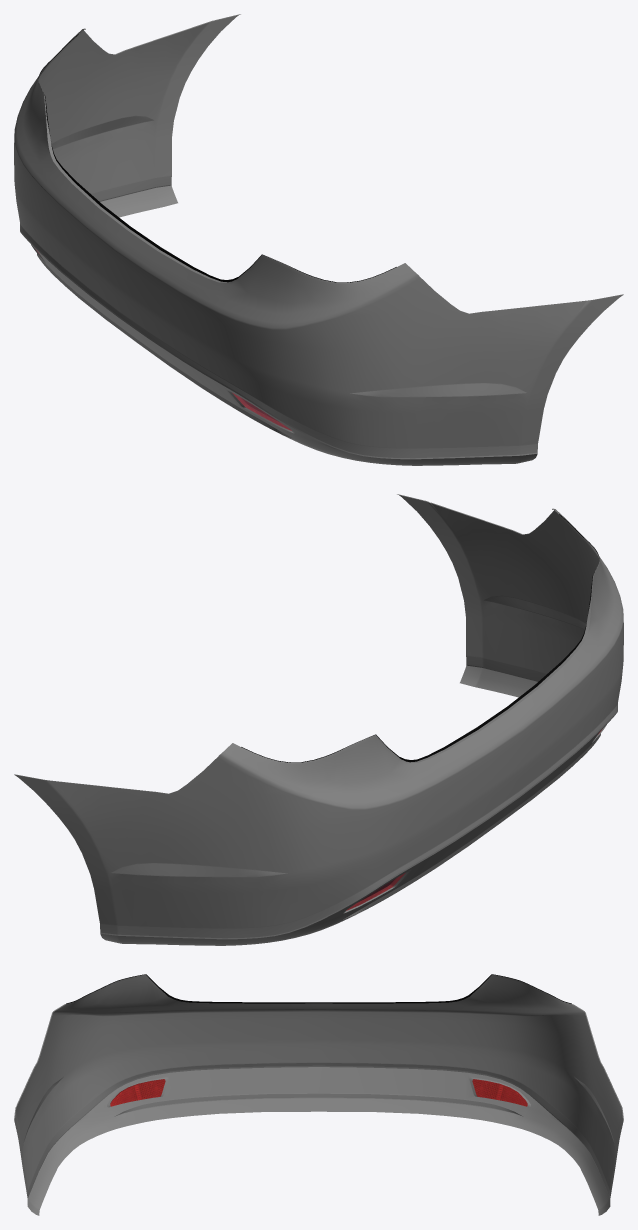
The picture shows the model from 3 angles, top to bottom: view 1: azimuth 30°, elevation 25°; view 2: azimuth 150°, elevation 25°; view 3: azimuth 270°, elevation 25°; orthographic projection. The views are drawn at different scales.
Parts seen in each view (by area): view 1: E317_561G_C_E317_561G_C_4_DaS, E317_561G_C_E317_561G_C_4_DaS_E, E317_561G_C_E317_561G_C_6_D; view 2: E317_561G_C_E317_561G_C_4_DaS, E317_561G_C_E317_561G_C_4_DaS_E, E317_561G_C_E317_561G_C_6_D; view 3: E317_561G_C_E317_561G_C_4_DaS, E317_561G_C_E317_561G_C_4_DaS_E, E317_561G_C_E317_561G_C_6_D, E317_561G_C_1_N_E317_561G_C, E317_561G_C_E317_561G_C_2_N.
Boxes of the visible parts, bbox=[...] form: E317_561G_C_E317_561G_C_4_DaS: bbox=[14, 15, 623, 465]; E317_561G_C_E317_561G_C_4_DaS_E: bbox=[20, 14, 623, 459]; E317_561G_C_E317_561G_C_6_D: bbox=[38, 34, 396, 282]; E317_561G_C_E317_561G_C_4_DaS: bbox=[14, 495, 623, 945]; E317_561G_C_E317_561G_C_4_DaS_E: bbox=[14, 494, 617, 939]; E317_561G_C_E317_561G_C_6_D: bbox=[241, 514, 599, 762]; E317_561G_C_E317_561G_C_4_DaS: bbox=[14, 974, 623, 1215]; E317_561G_C_E317_561G_C_4_DaS_E: bbox=[14, 1004, 623, 1193]; E317_561G_C_E317_561G_C_6_D: bbox=[66, 974, 571, 1003]; E317_561G_C_1_N_E317_561G_C: bbox=[110, 1079, 165, 1106]; E317_561G_C_E317_561G_C_2_N: bbox=[472, 1079, 527, 1106].
Size of the model in its own units: 103 by 66.11 by 216.
